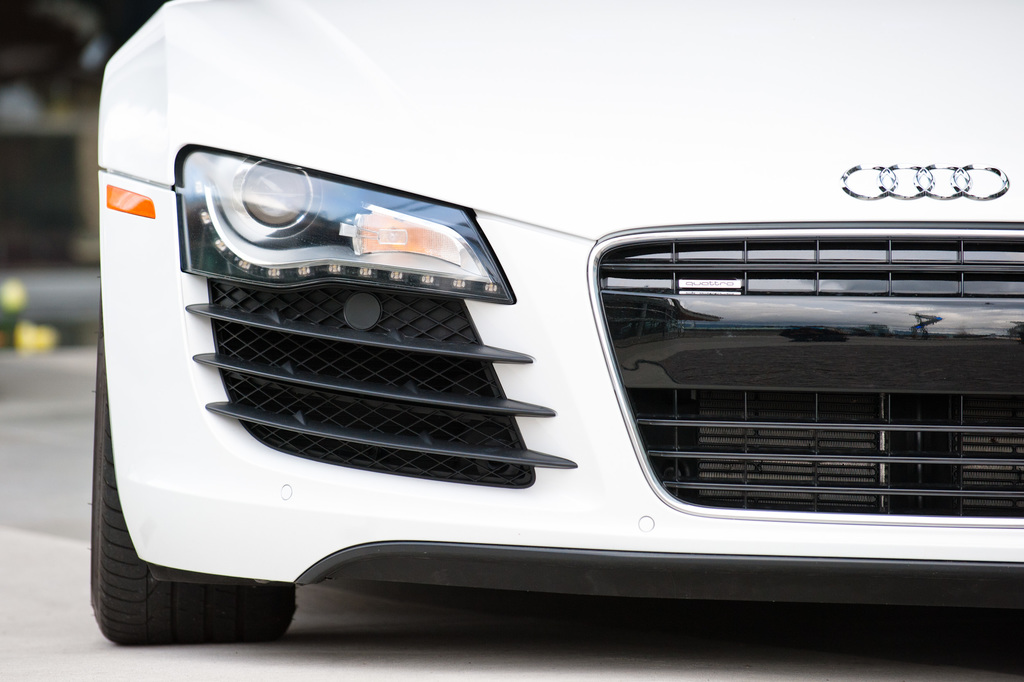Car: (87, 0, 1024, 645)
